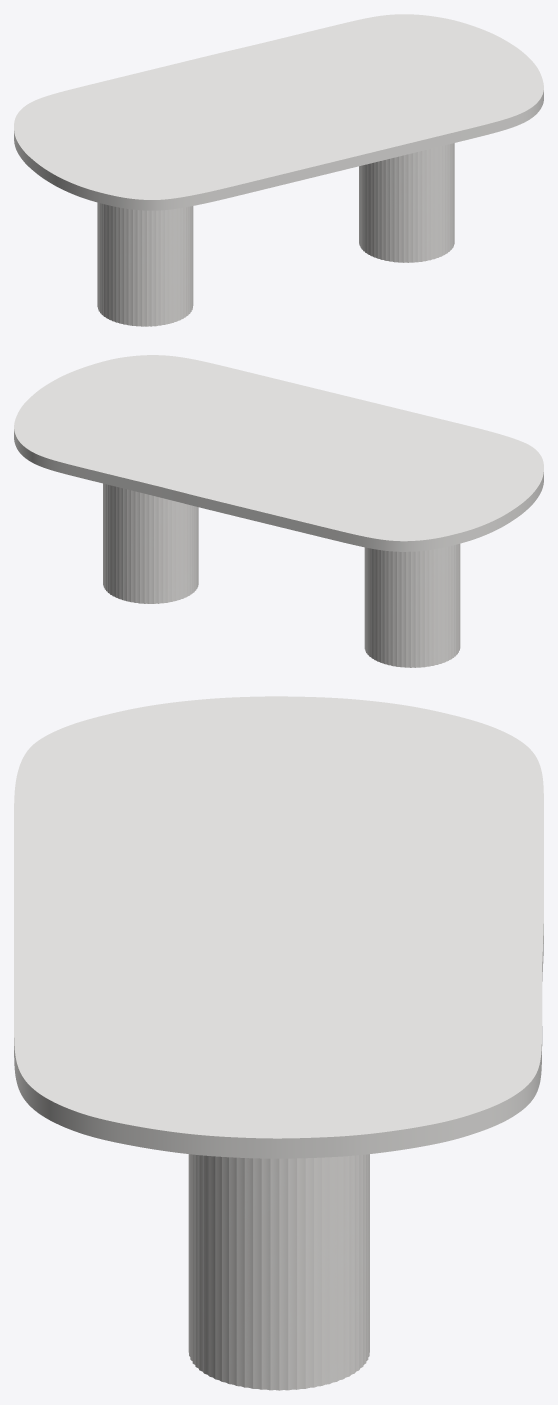
Rendered from purewhite_oval_standard_ripplesecond.glb.
3 renders of one model, top to bottom at view 1: azimuth 30°, elevation 25°; view 2: azimuth 150°, elevation 25°; view 3: azimuth 270°, elevation 25°, orthographic. The views are drawn at different scales.
Visible parts, largest first — view 1: standard_oval, ripplesecond; view 2: standard_oval, ripplesecond; view 3: standard_oval, ripplesecond.
Boxes of the visible parts, x1,y1,x2,y2 form: standard_oval: (14,14,543,210); ripplesecond: (97,143,454,326); standard_oval: (14,355,543,551); ripplesecond: (103,483,460,667); standard_oval: (14,696,543,1158); ripplesecond: (188,1154,369,1390).
Size of the model in its own units: 7.5 by 2.5 by 3.8.
1 material, 1 textured.
